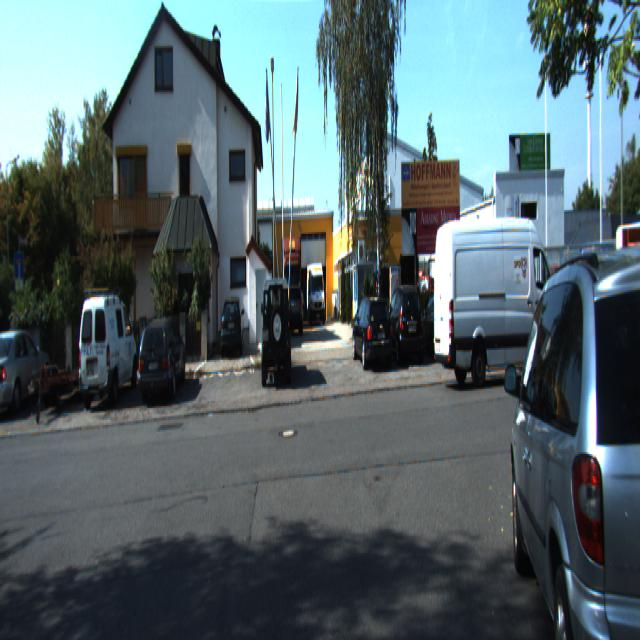Car: (504, 206, 639, 638), (431, 208, 572, 388), (80, 286, 142, 407), (580, 218, 640, 343), (8, 347, 106, 418), (0, 323, 55, 418), (138, 317, 188, 405), (379, 283, 425, 366), (260, 278, 291, 391), (351, 292, 394, 372), (281, 232, 301, 328), (219, 293, 244, 356), (306, 255, 324, 324), (286, 282, 304, 334)
